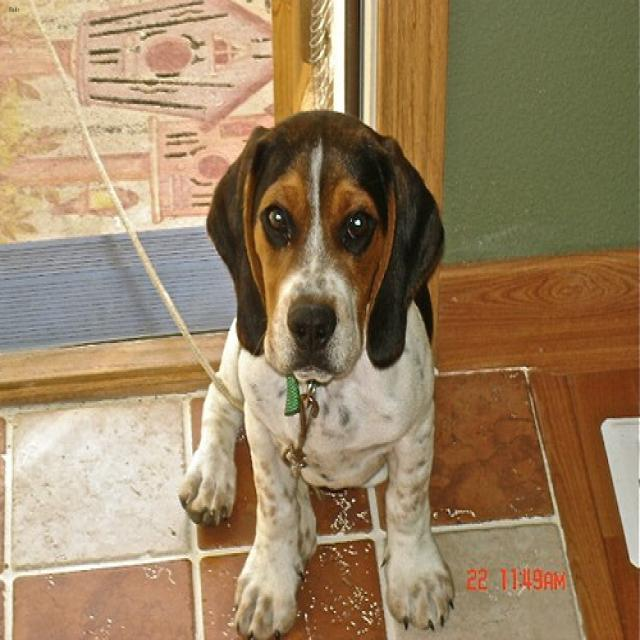dog-beagle: (169, 104, 466, 637)
